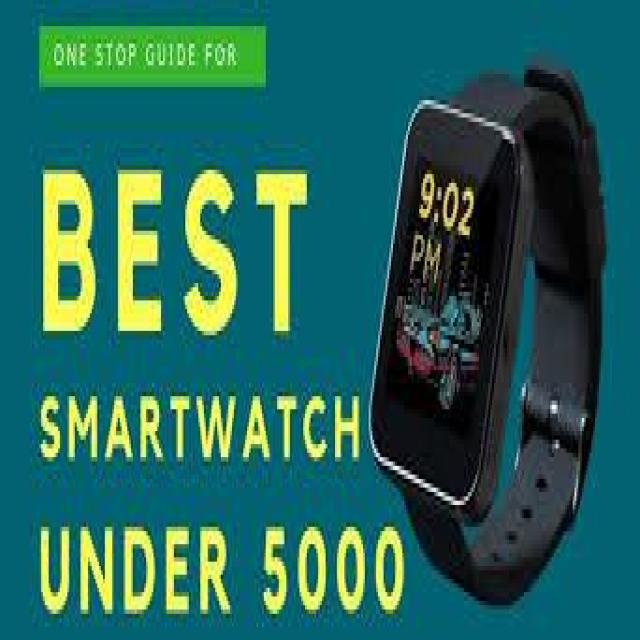watch: (359, 8, 614, 614)
